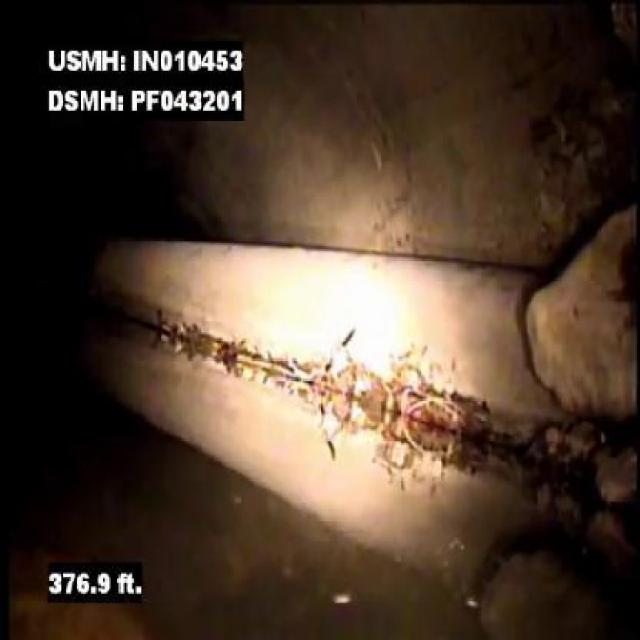Utility intrusion: (66, 232, 625, 494)
